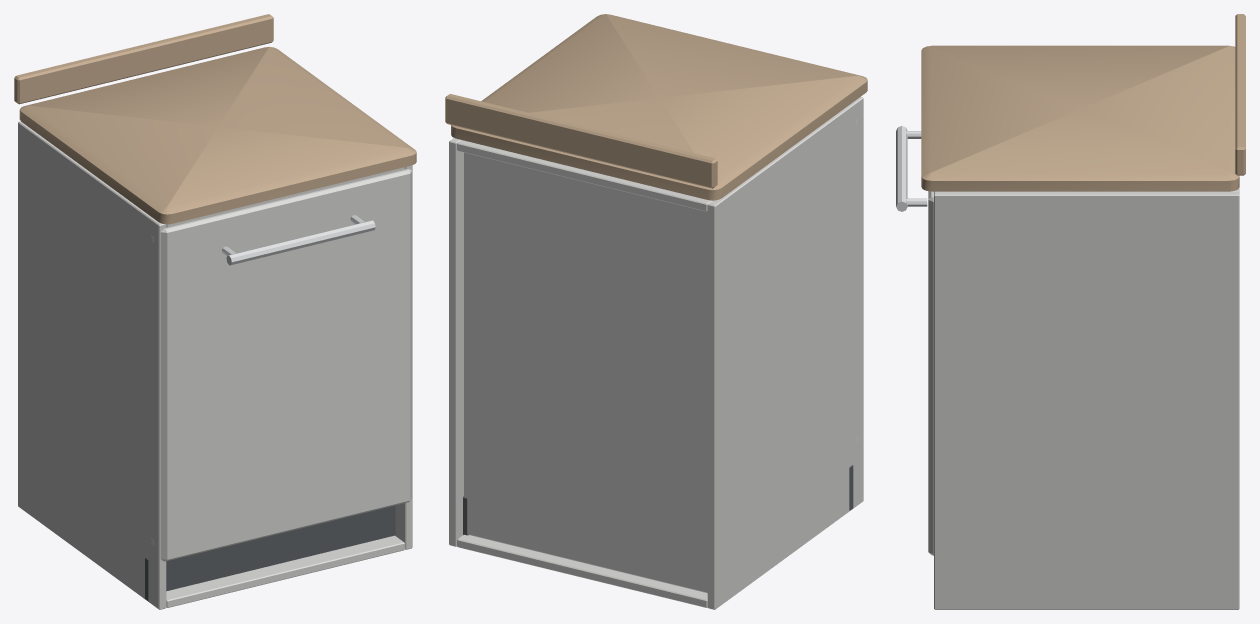
File: home-appliances-and-utility-utility-base-unit-600-c29b81ad__14166.glb
The picture shows the model from 3 angles, left to right: view 1: azimuth 30°, elevation 25°; view 2: azimuth 150°, elevation 25°; view 3: azimuth 270°, elevation 25°; orthographic projection. The views are drawn at different scales.
Visible parts, largest first — view 1: utility-base-unit-600, door/carcass, door/metal; view 2: utility-base-unit-600; view 3: utility-base-unit-600, door/carcass, door/metal.
Boxes of the visible parts, <box> form: utility-base-unit-600: <box>14,14,416,609</box>; door/carcass: <box>160,169,411,561</box>; door/metal: <box>151,215,375,544</box>; utility-base-unit-600: <box>445,14,867,609</box>; utility-base-unit-600: <box>921,14,1245,609</box>; door/carcass: <box>928,191,933,555</box>; door/metal: <box>896,126,927,211</box>.
Bounding box in the file's own units: 0.606 × 0.97 × 0.664.
